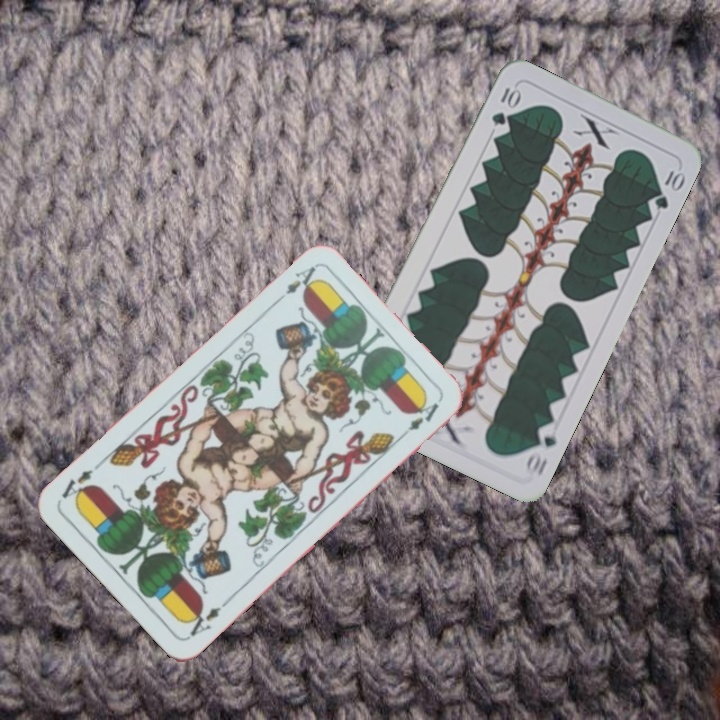EA: (181, 595, 232, 639), (282, 262, 319, 297)
G10: (520, 419, 559, 479), (487, 81, 522, 129)
